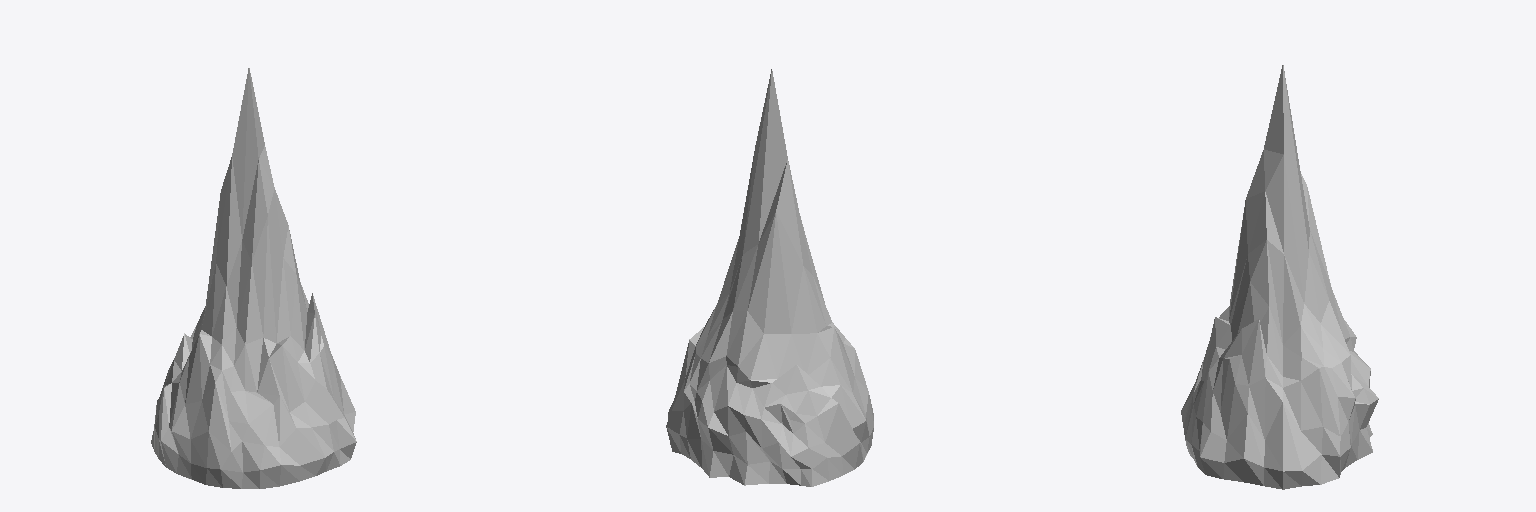
File: stalactite.obj
The picture shows the model from 3 angles: view 1: azimuth 30°, elevation 25°; view 2: azimuth 150°, elevation 25°; view 3: azimuth 270°, elevation 25°; orthographic projection.
Parts seen in each view (by area): view 1: Cube_Cube.001; view 2: Cube_Cube.001; view 3: Cube_Cube.001.
Part boxes in pixels (x1,y1,x2,y2): Cube_Cube.001: (151,68,356,488); Cube_Cube.001: (666,69,873,486); Cube_Cube.001: (1181,65,1378,489).
Size of the model in its own units: 1.93 by 3.76 by 1.77.